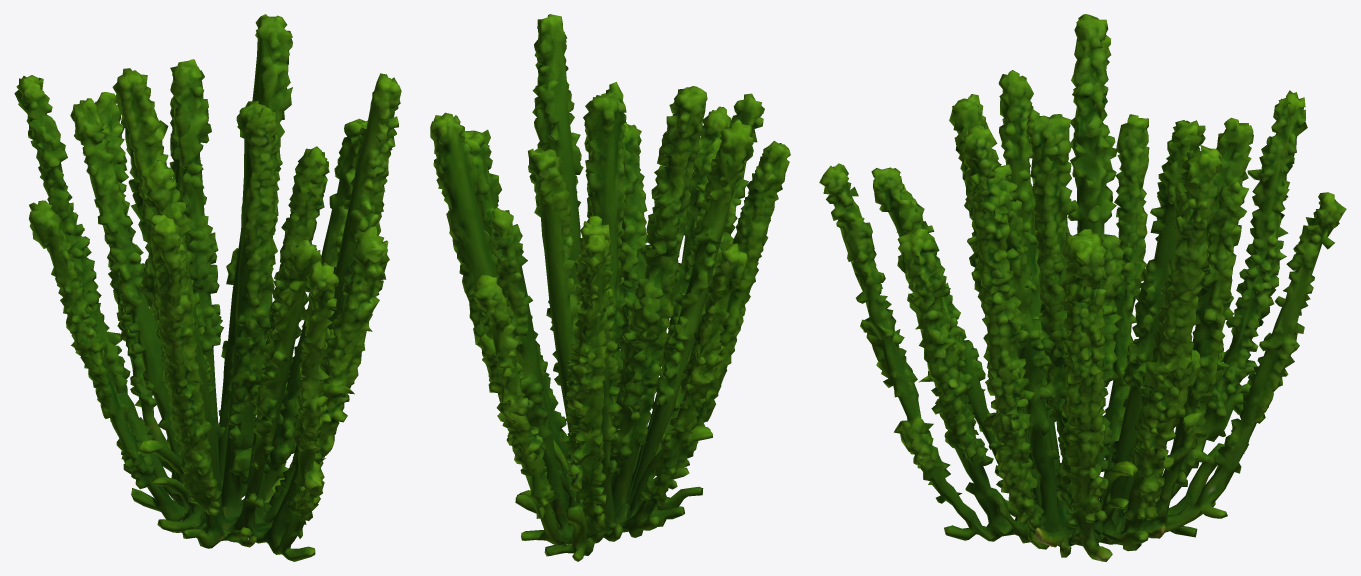
File: plant_caulerpa.glb
3 renders of one model, left to right at view 1: azimuth 30°, elevation 25°; view 2: azimuth 150°, elevation 25°; view 3: azimuth 270°, elevation 25°, orthographic. The views are drawn at different scales.
Visible parts, largest first — view 1: tripo_node_79947196-1e41-441e-8430-fd707372c1c0; view 2: tripo_node_79947196-1e41-441e-8430-fd707372c1c0; view 3: tripo_node_79947196-1e41-441e-8430-fd707372c1c0.
Boxes of the visible parts, <box> form: tripo_node_79947196-1e41-441e-8430-fd707372c1c0: <box>14,14,401,561</box>; tripo_node_79947196-1e41-441e-8430-fd707372c1c0: <box>430,14,790,561</box>; tripo_node_79947196-1e41-441e-8430-fd707372c1c0: <box>819,14,1346,561</box>.
Bounding box in the file's own units: 0.7398 × 0.9985 × 1.
1 material, 1 textured.
